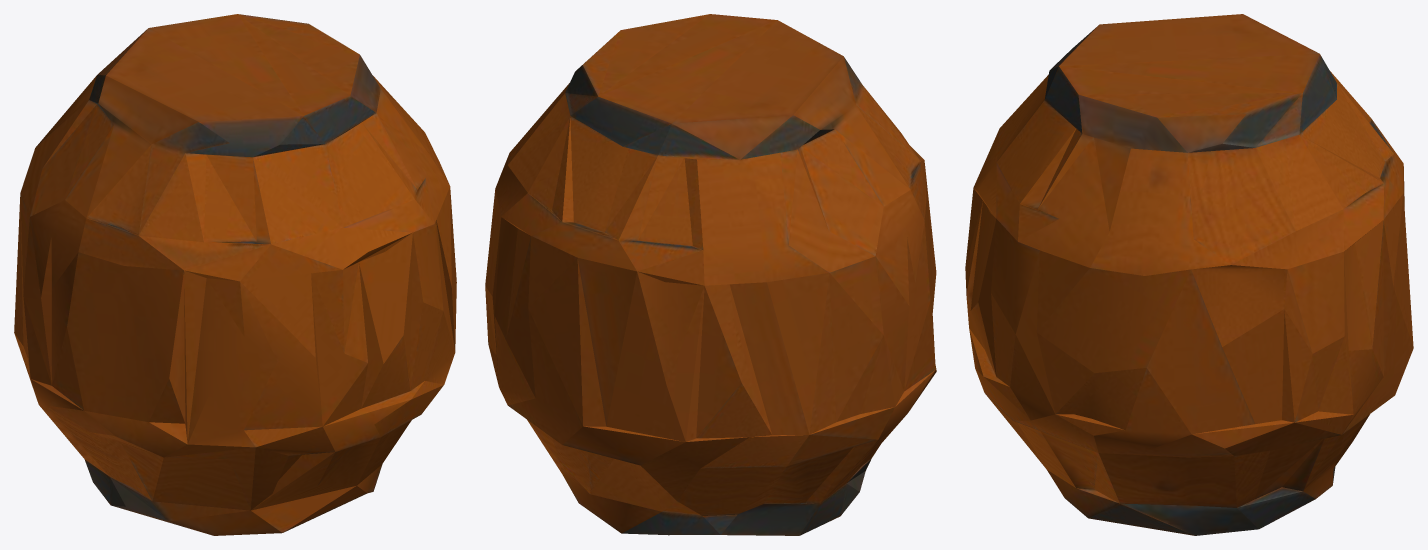
Rendered from barrel.glb.
3 renders of one model, left to right at view 1: azimuth 30°, elevation 25°; view 2: azimuth 150°, elevation 25°; view 3: azimuth 270°, elevation 25°, orthographic. The views are drawn at different scales.
Size of the model in its own units: 1.88 by 1.9 by 1.88.
Materials: 1 (1 with a texture image).
